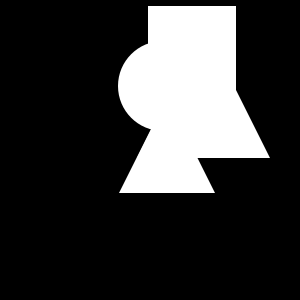circle: (148, 6, 236, 94)
rectangle: (118, 41, 208, 131)
triangle: (137, 25, 270, 158), (119, 97, 215, 193)
